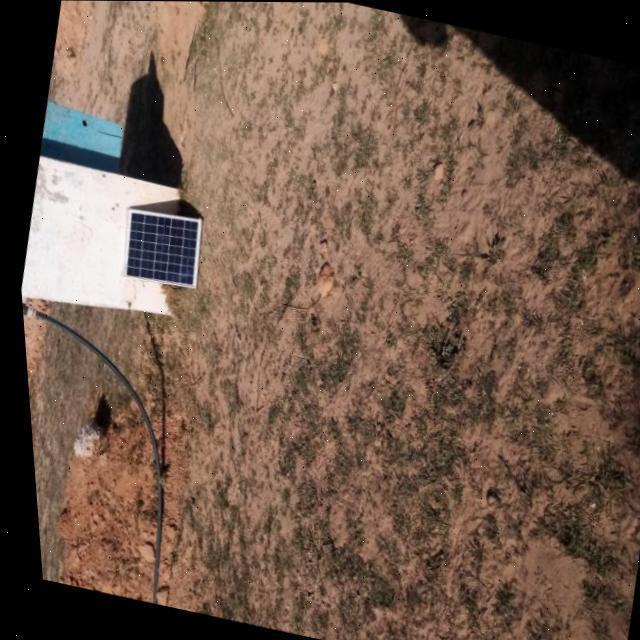Normal Solar Panel: (112, 204, 206, 289)
